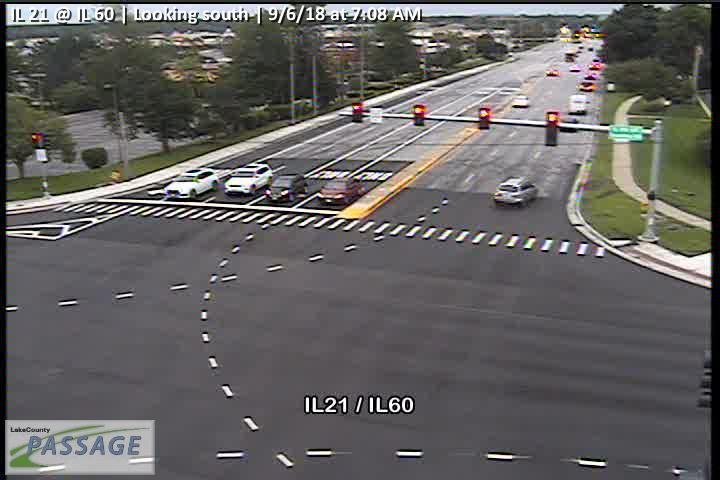SUV: (164, 168, 218, 199), (223, 163, 271, 196), (266, 173, 308, 203), (318, 177, 363, 205), (511, 94, 529, 107)
Sedan: (493, 176, 537, 208)
Truck: (569, 94, 588, 114)
